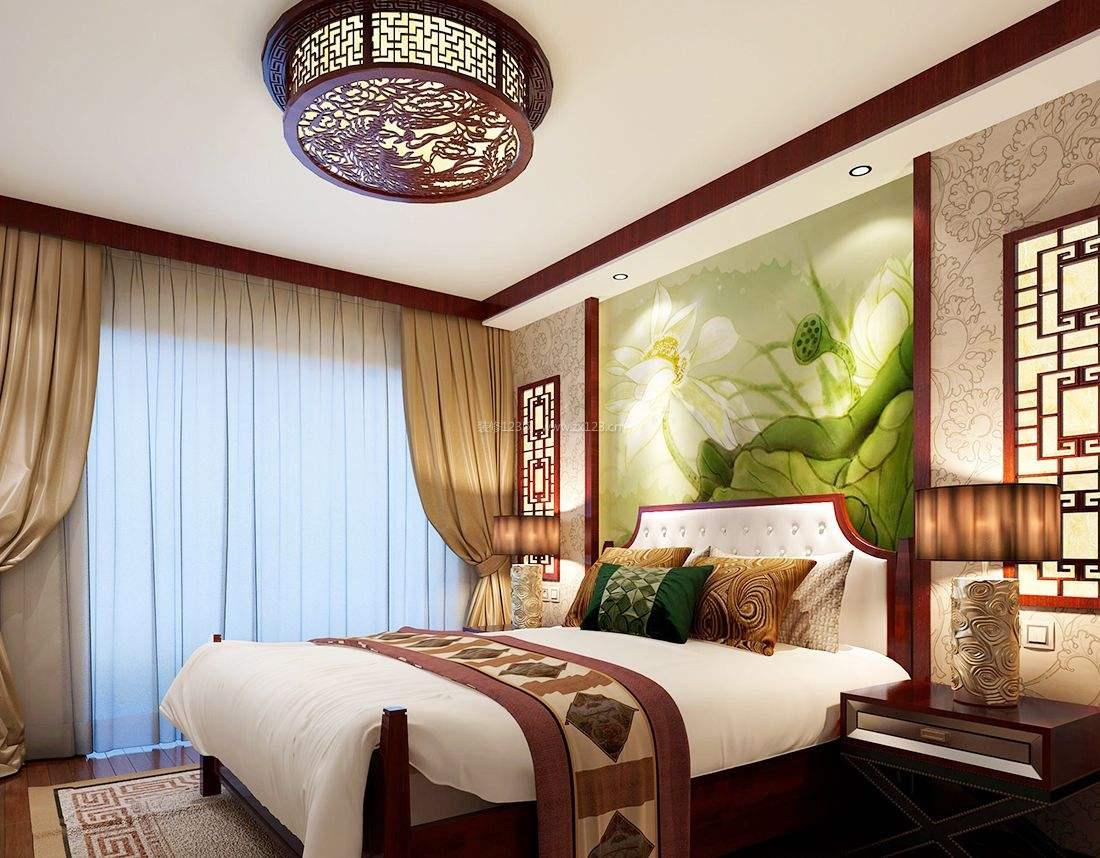床: (142, 621, 908, 844)
枕头: (574, 540, 845, 648)
灯: (253, 5, 552, 211), (908, 481, 1064, 727), (486, 510, 565, 627), (837, 163, 870, 183), (603, 275, 626, 291)
